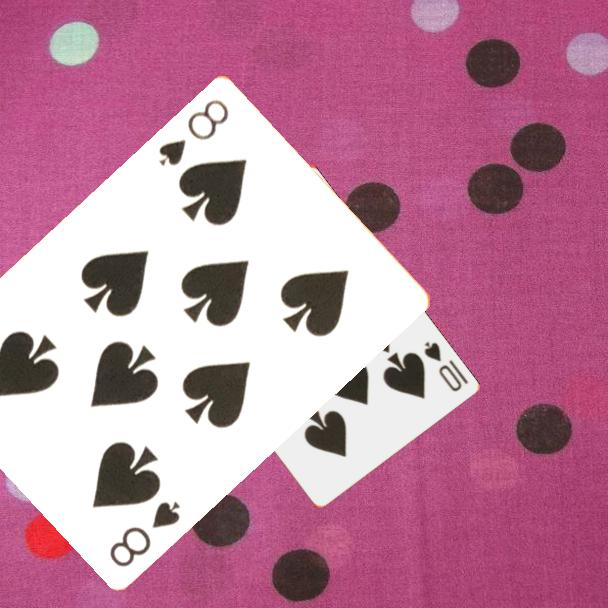s08: (105, 496, 184, 570), (155, 95, 232, 169)
s10: (420, 338, 471, 395)
